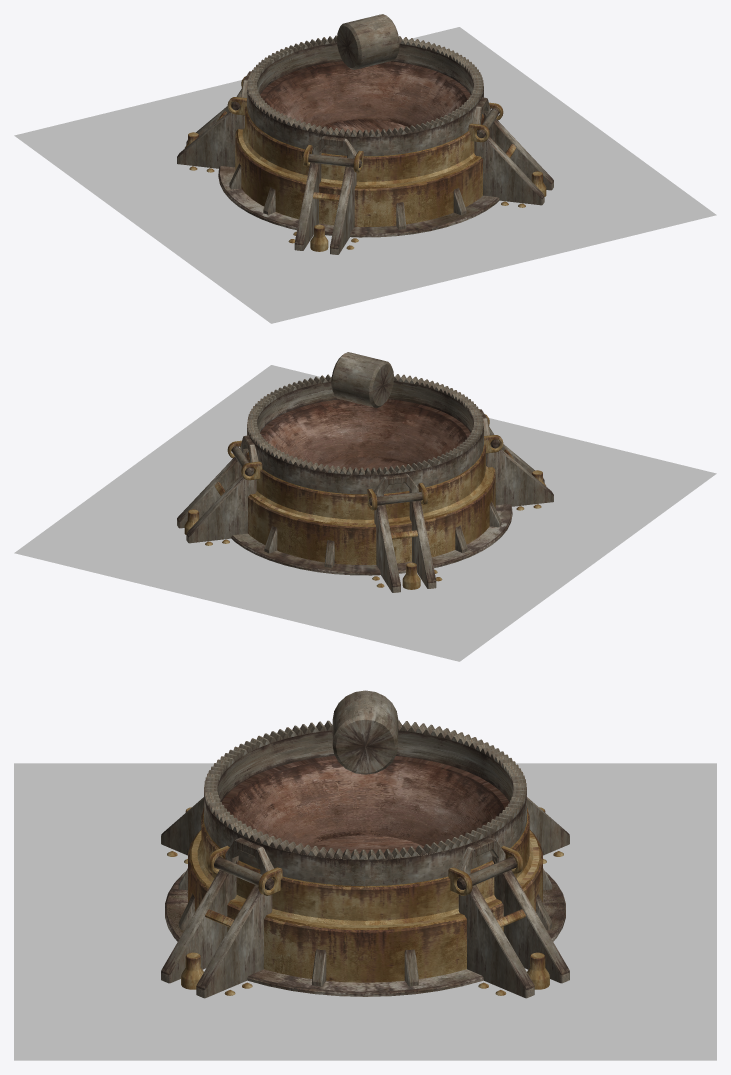
File: static1.fbx
The picture shows the model from 3 angles, top to bottom: view 1: azimuth 30°, elevation 25°; view 2: azimuth 150°, elevation 25°; view 3: azimuth 270°, elevation 25°; orthographic projection. The views are drawn at different scales.
Visible parts, largest first — view 1: scorch, Cylinder_3, Cylinder_3_2, Boole_2, Tube, Cylinder_1, Cylinder_2_2, Cube_1, Cube_Cylinder, Cube_1_3, Cylinder, Cylinder_2; view 2: scorch, Cylinder_3, Cylinder_3_2, Boole_2, Tube, Cylinder_1, Cylinder_2_2, Cube_1, Cube_Cylinder, Cube_1_3, Cylinder, Cylinder_2; view 3: scorch, Cylinder_3, Cylinder_3_2, Boole_2, Tube, Cylinder_1, Cylinder_2_2, Cube_1, Cube_1_3, Cube_Cylinder, Cylinder, Cylinder_2.
Part boxes in pixels (left/top/right/bottom): scorch: left=14, top=27, right=716, bottom=323; Cylinder_3: left=235, top=106, right=484, bottom=227; Cylinder_3_2: left=260, top=61, right=470, bottom=132; Boole_2: left=177, top=102, right=553, bottom=254; Tube: left=247, top=39, right=483, bottom=156; Cylinder_1: left=218, top=166, right=499, bottom=237; Cylinder_2_2: left=337, top=14, right=399, bottom=69; Cube_1: left=229, top=163, right=466, bottom=229; Cube_Cylinder: left=227, top=76, right=503, bottom=172; Cube_1_3: left=241, top=71, right=490, bottom=158; Cylinder: left=231, top=88, right=499, bottom=167; Cylinder_2: left=184, top=132, right=546, bottom=251; scorch: left=14, top=365, right=716, bottom=661; Cylinder_3: left=246, top=444, right=495, bottom=565; Cylinder_3_2: left=260, top=399, right=470, bottom=470; Boole_2: left=177, top=440, right=553, bottom=592; Tube: left=247, top=376, right=483, bottom=494; Cylinder_1: left=231, top=504, right=512, bottom=575; Cylinder_2_2: left=331, top=352, right=393, bottom=407; Cube_1: left=264, top=501, right=501, bottom=567; Cube_Cylinder: left=227, top=414, right=503, bottom=510; Cube_1_3: left=240, top=409, right=489, bottom=496; Cylinder: left=231, top=426, right=499, bottom=505; Cylinder_2: left=184, top=470, right=546, bottom=589; scorch: left=14, top=763, right=716, bottom=1060; Cylinder_3: left=188, top=808, right=542, bottom=982; Cylinder_3_2: left=222, top=756, right=509, bottom=853; Boole_2: left=161, top=797, right=569, bottom=998; Tube: left=204, top=725, right=526, bottom=886; Cylinder_1: left=165, top=871, right=565, bottom=996; Cylinder_2_2: left=332, top=690, right=398, bottom=774; Cube_1: left=178, top=868, right=552, bottom=986; Cube_1_3: left=225, top=837, right=505, bottom=874; Cube_Cylinder: left=208, top=771, right=522, bottom=895; Cylinder: left=214, top=856, right=516, bottom=889; Cylinder_2: left=181, top=807, right=549, bottom=989.
Bounding box in the file's own units: 663 × 270 × 663.
Materials: 4 (3 with a texture image).
